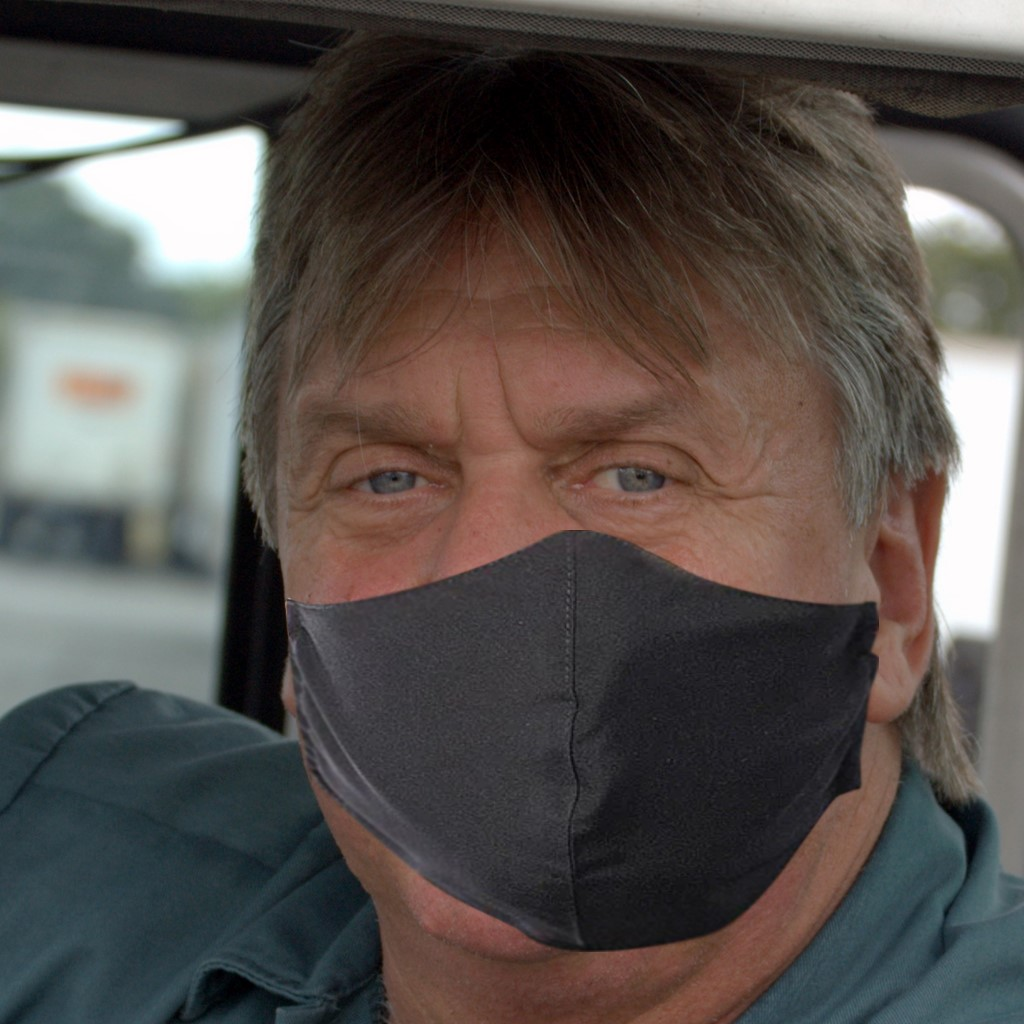con_mascara: (264, 123, 897, 934)
